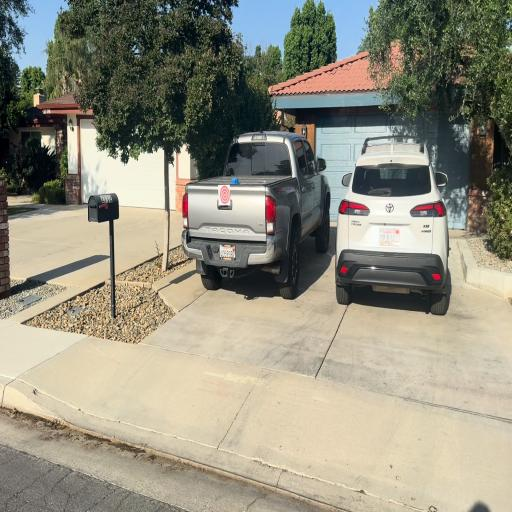bullseye: (219, 185, 230, 205)
